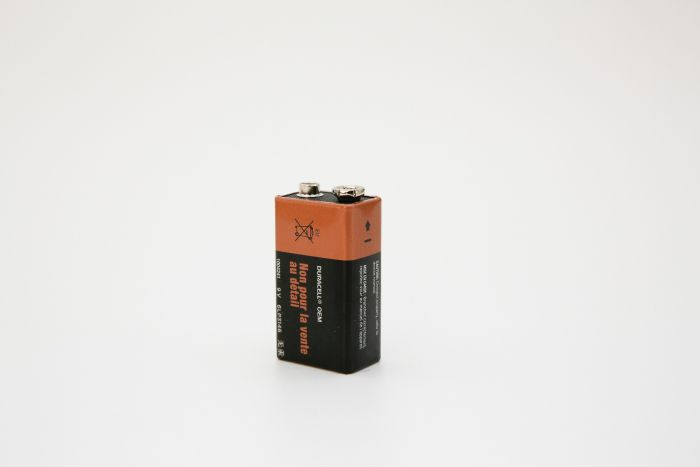9V: (267, 182, 396, 378)
